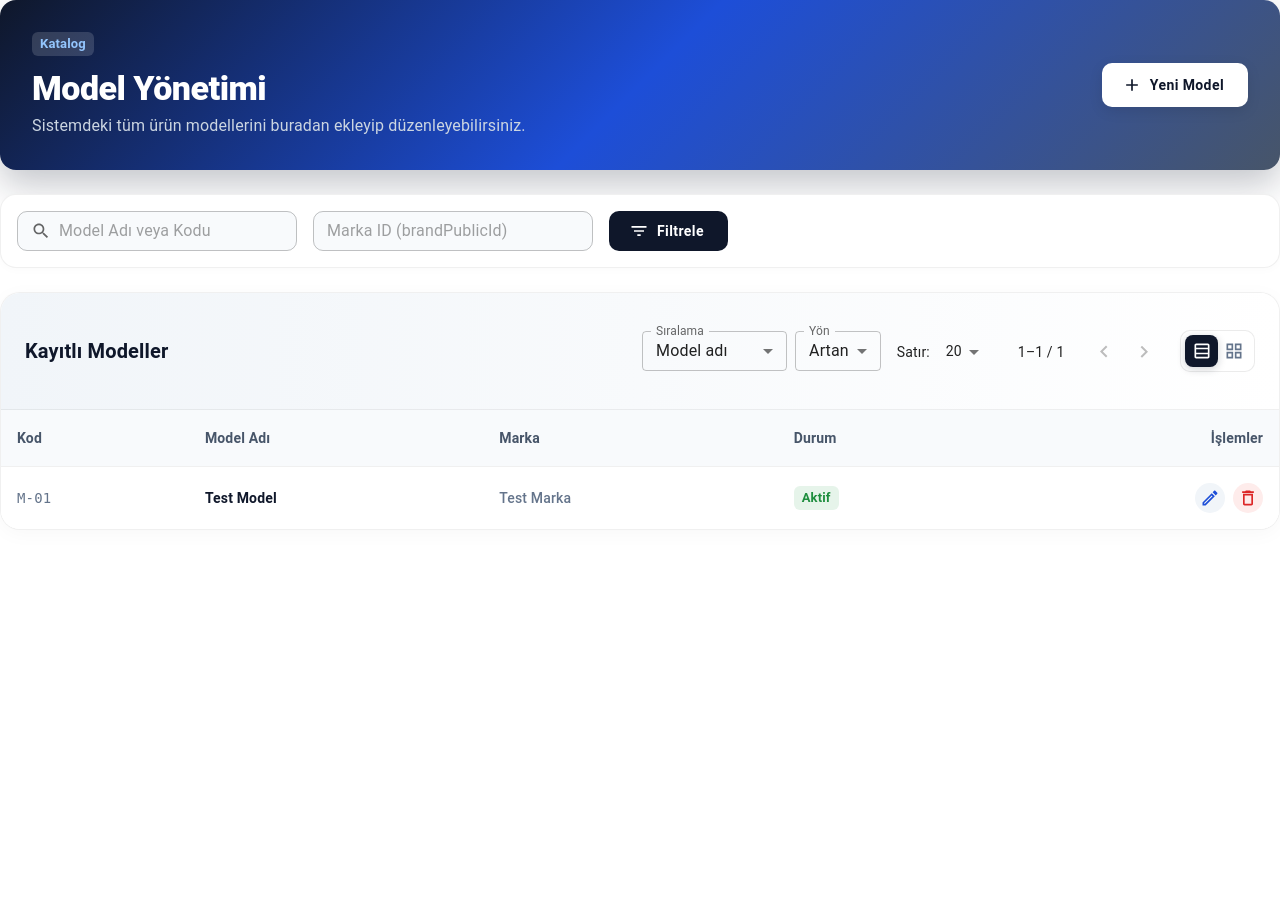
ECR-07: Model Modülü Testleri › Model silinirken pasaport bağlıysa 409 Conflict hatasını yakalar ve gösterir
Step 1. Click the button named "Sil" → (1248, 498), box [1233, 483, 1263, 513]
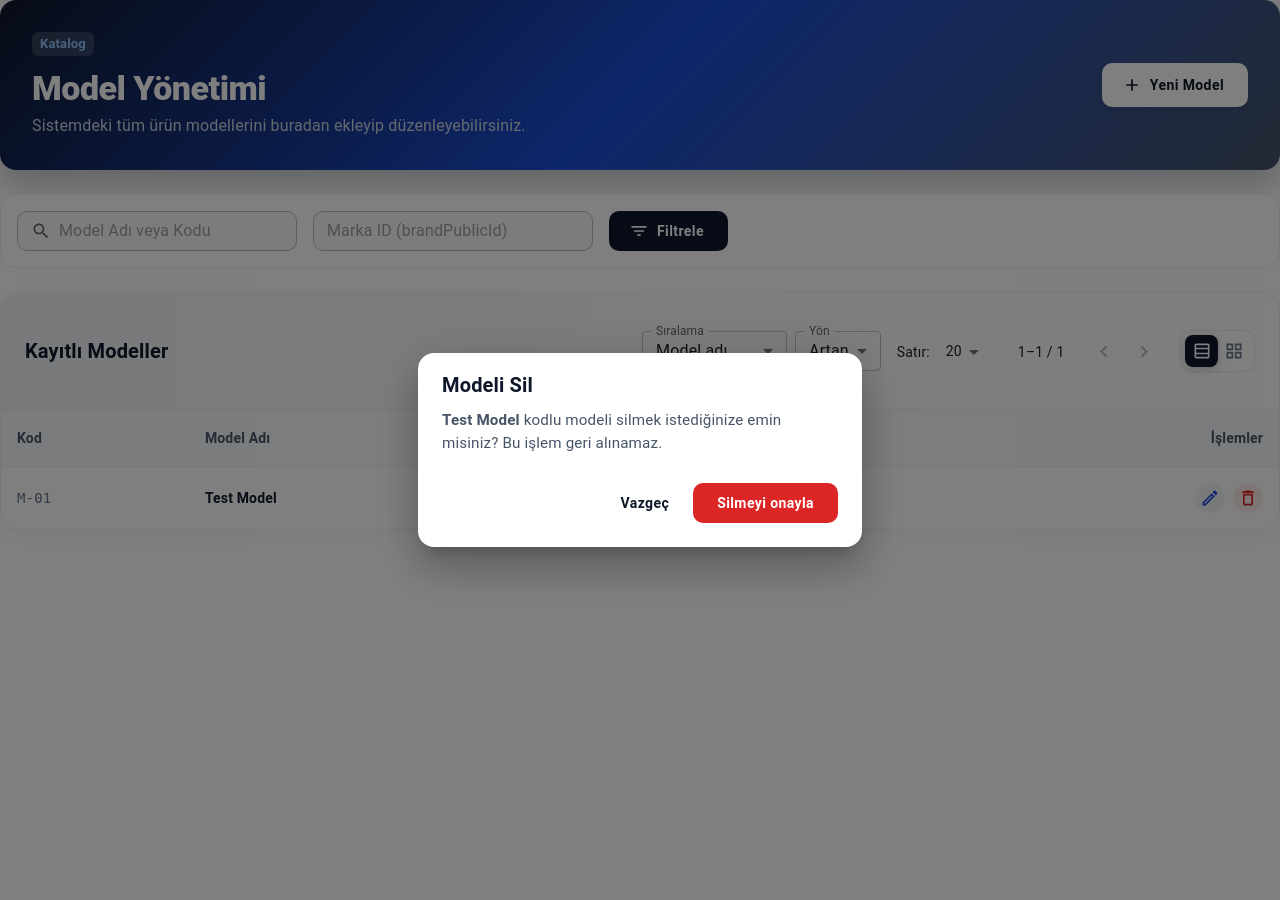
Step 2. Click the button "Silmeyi onayla" → (766, 503), box [693, 482, 838, 523]
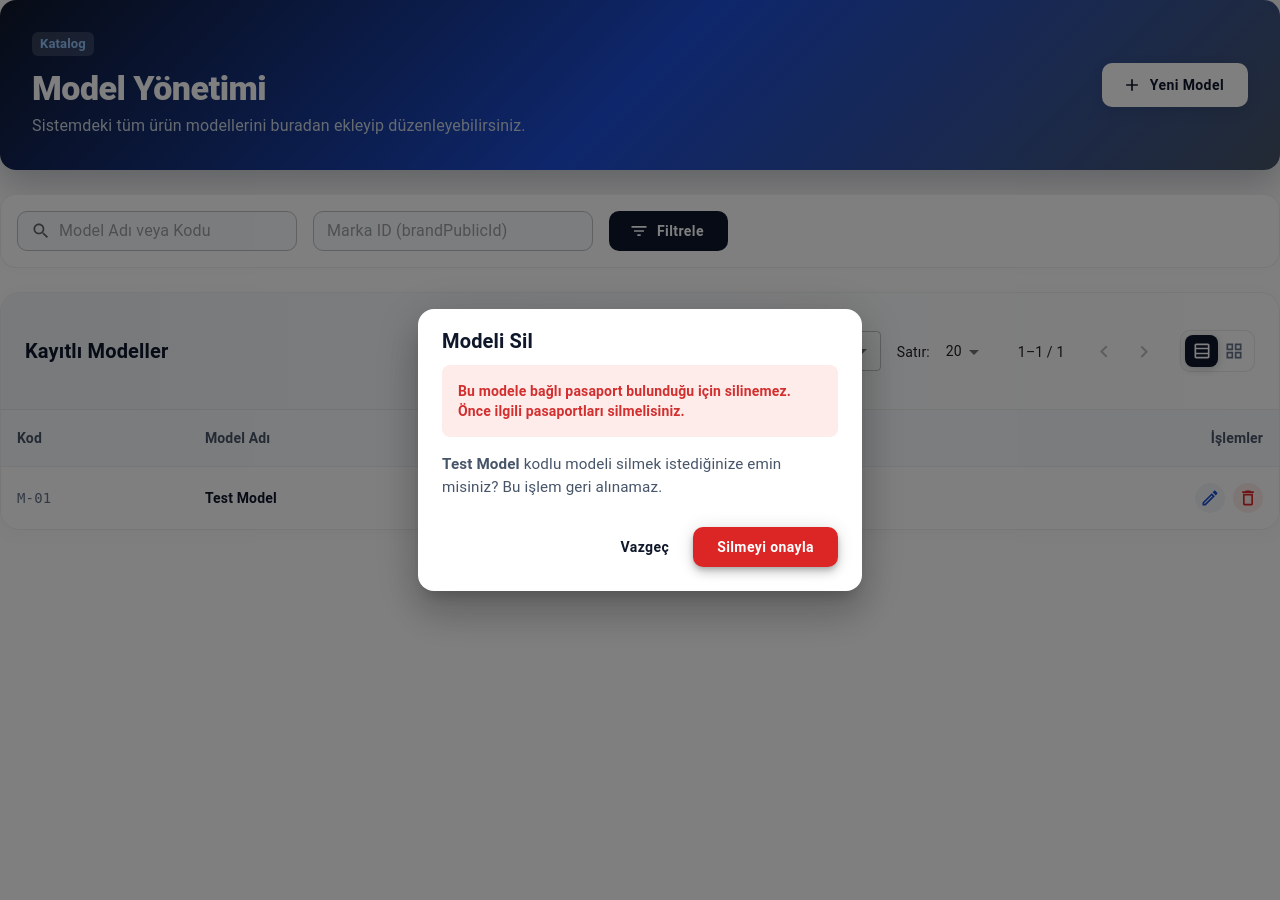
Result: the text "Bu modele bağlı pasaport bulunduğu için silinemez" is shown at [458, 383, 791, 419]
